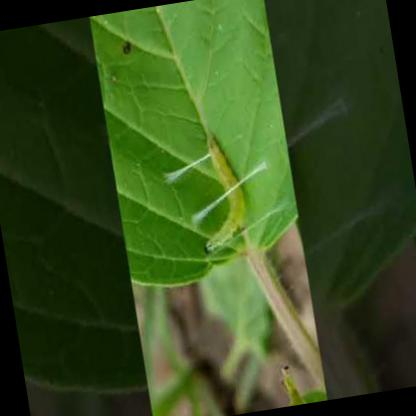Leaf Webber: (286, 0, 368, 70)
